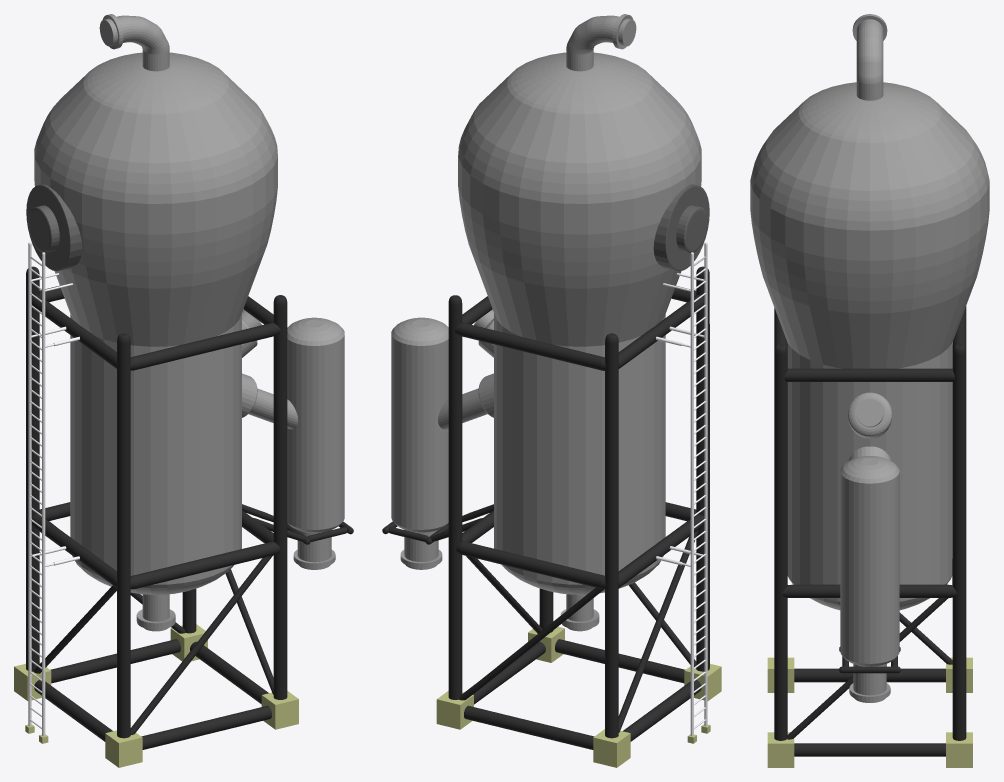
File: regenerator_KT1.obj
3 views of the same model, side by side, from view 1: azimuth 30°, elevation 25°; view 2: azimuth 150°, elevation 25°; view 3: azimuth 270°, elevation 25° (orthographic). The views are drawn at different scales.
Parts seen in each view (by area): view 1: Цилиндр.081_Цилиндр.086, Цилиндр.087_Цилиндр.081, Цилиндр.094_Цилиндр.074, Цилиндр.092_Цилиндр.076, Цилиндр.113_Цилиндр.055, Цилиндр.091_Цилиндр.077, Цилиндр.090_Цилиндр.078, Цилиндр.100_Цилиндр.068, Цилиндр.118_Цилиндр.050, Цилиндр.093_Цилиндр.075, Цилиндр.097_Цилиндр.071, Цилиндр.096_Цилиндр.072 (+16 smaller); view 2: Цилиндр.081_Цилиндр.086, Цилиндр.087_Цилиндр.081, Цилиндр.114_Цилиндр.054, Цилиндр.113_Цилиндр.055, Цилиндр.092_Цилиндр.076, Цилиндр.091_Цилиндр.077, Цилиндр.090_Цилиндр.078, Цилиндр.116_Цилиндр.052, Цилиндр.102_Цилиндр.066, Цилиндр.096_Цилиндр.072, Цилиндр.115_Цилиндр.053, Цилиндр.093_Цилиндр.075 (+16 smaller); view 3: Цилиндр.081_Цилиндр.086, Цилиндр.087_Цилиндр.081, Цилиндр.114_Цилиндр.054, Цилиндр.094_Цилиндр.074, Цилиндр.090_Цилиндр.078, Цилиндр.125_Цилиндр.043, Цилиндр.119_Цилиндр.049, Цилиндр.095_Цилиндр.073, Цилиндр.105_Цилиндр.063, Цилиндр.088_Цилиндр.080, Цилиндр.083_Цилиндр.084, Цилиндр.120_Цилиндр.048 (+7 smaller).
Boxes of the visible parts, x1,y1,x2,y2 form: Цилиндр.081_Цилиндр.086: (34,52,277,594); Цилиндр.087_Цилиндр.081: (287,317,344,533); Цилиндр.094_Цилиндр.074: (273,295,287,699); Цилиндр.092_Цилиндр.076: (117,333,130,738); Цилиндр.113_Цилиндр.055: (26,266,39,671); Цилиндр.091_Цилиндр.077: (26,184,82,271); Цилиндр.090_Цилиндр.078: (99,14,169,71); Цилиндр.100_Цилиндр.068: (130,322,280,370); Цилиндр.118_Цилиндр.050: (130,541,280,589); Цилиндр.093_Цилиндр.075: (42,252,45,736); Цилиндр.097_Цилиндр.071: (141,705,271,749); Цилиндр.096_Цилиндр.072: (28,242,31,726); Цилиндр.081_Цилиндр.086: (458,52,701,594); Цилиндр.087_Цилиндр.081: (391,317,448,532); Цилиндр.114_Цилиндр.054: (448,295,462,699); Цилиндр.113_Цилиндр.055: (605,333,618,738); Цилиндр.092_Цилиндр.076: (696,266,709,671); Цилиндр.091_Цилиндр.077: (653,184,709,271); Цилиндр.090_Цилиндр.078: (566,14,636,71); Цилиндр.116_Цилиндр.052: (455,323,605,370); Цилиндр.102_Цилиндр.066: (456,541,605,589); Цилиндр.096_Цилиндр.072: (690,252,693,736); Цилиндр.115_Цилиндр.053: (464,705,594,749); Цилиндр.093_Цилиндр.075: (704,242,707,726); Цилиндр.081_Цилиндр.086: (750,82,989,610); Цилиндр.087_Цилиндр.081: (840,456,899,666); Цилиндр.114_Цилиндр.054: (952,344,966,740); Цилиндр.094_Цилиндр.074: (774,344,787,740); Цилиндр.090_Цилиндр.078: (852,14,887,100); Цилиндр.125_Цилиндр.043: (784,368,954,381); Цилиндр.119_Цилиндр.049: (794,743,945,756); Цилиндр.095_Цилиндр.073: (794,668,945,682); Цилиндр.105_Цилиндр.063: (781,584,957,597); Цилиндр.088_Цилиндр.080: (849,664,890,702); Цилиндр.083_Цилиндр.084: (848,392,891,438); Цилиндр.120_Цилиндр.048: (787,585,952,739).
Size of the model in its own units: 12.97 by 28.38 by 8.93.
